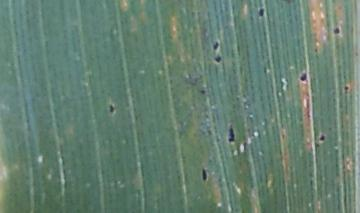tarspot: (226, 124, 238, 144), (297, 68, 310, 84), (106, 101, 117, 116), (256, 6, 268, 19), (212, 53, 224, 65), (211, 40, 222, 51), (331, 25, 342, 36), (200, 167, 208, 182), (317, 132, 327, 143), (342, 83, 351, 93), (199, 89, 207, 95)
